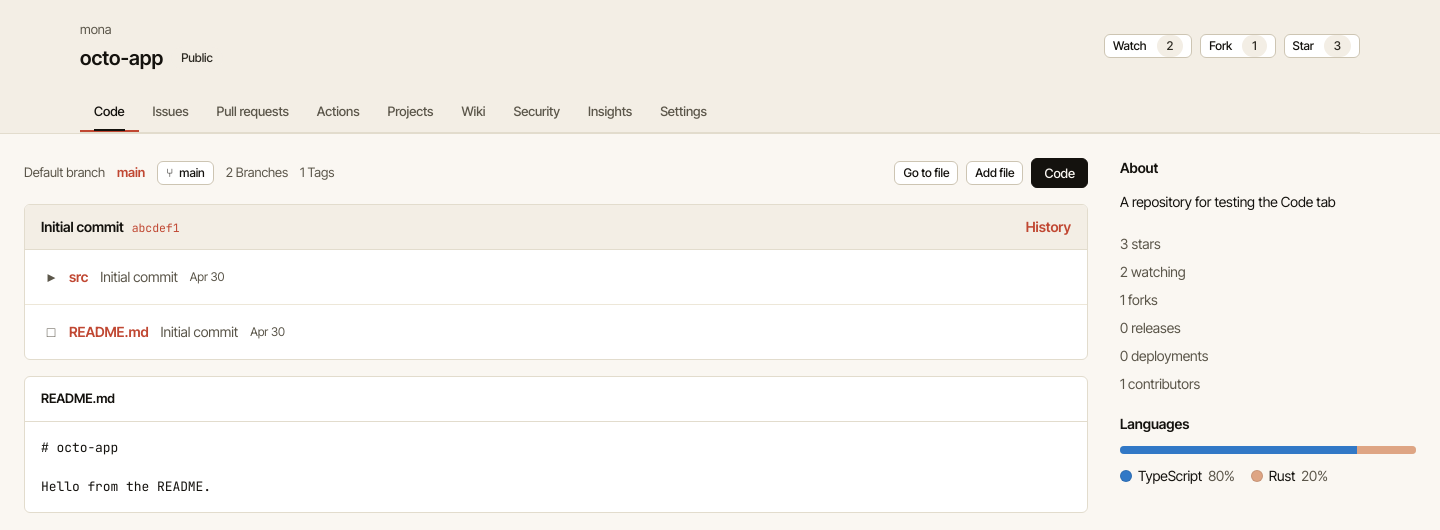
Scenario: RepositoryCodeOverview › rolls back optimistic state and shows feedback when an action fails
Click the button "Star 3" at [1322, 46], box [1284, 34, 1360, 58]
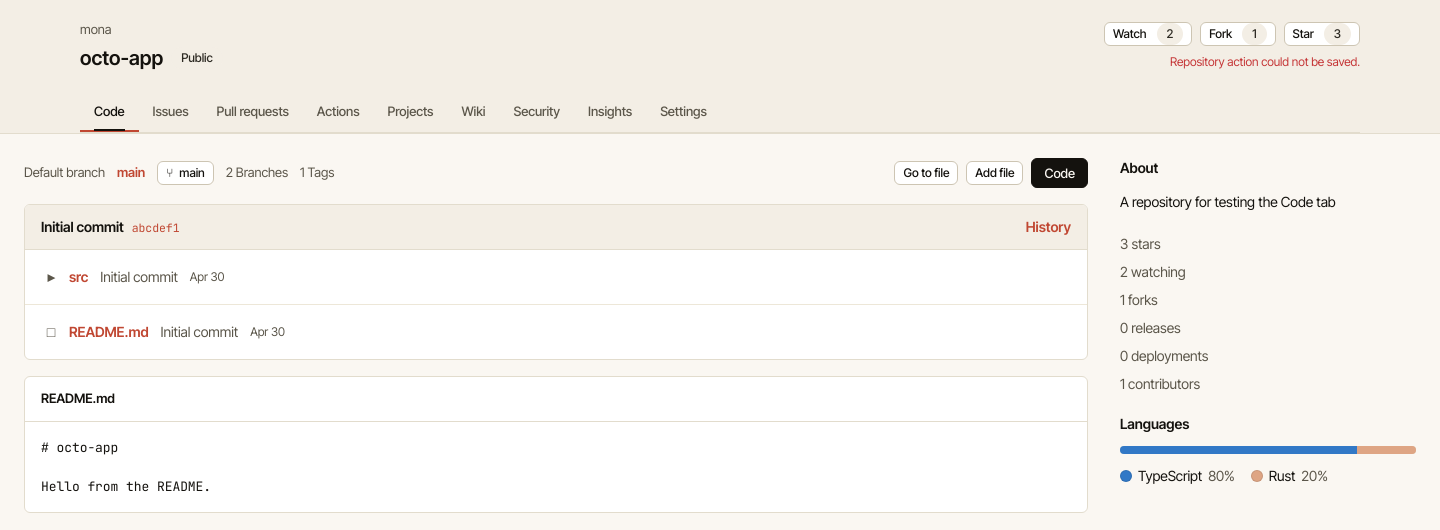
Check: the button "Star 3" is shown, box [1284, 22, 1360, 46]
Check: the message reads "Repository action could not be saved.", box [1170, 54, 1360, 69]
